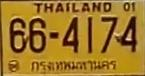1: (87, 16, 92, 53)
4: (120, 16, 138, 52), (63, 17, 79, 53)
6: (29, 18, 46, 53), (9, 17, 26, 52)
7: (100, 17, 117, 53)
BKK: (27, 57, 118, 74)
